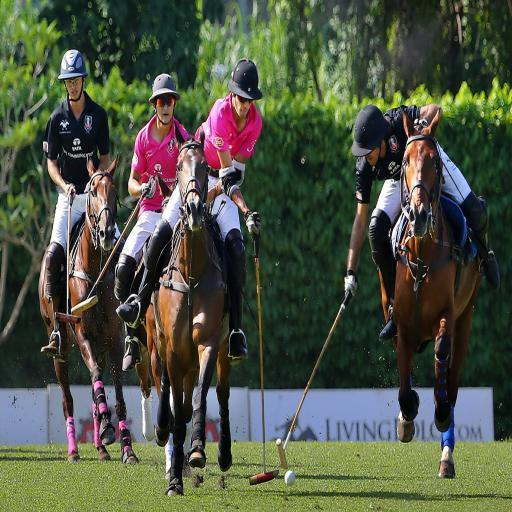horse: (377, 104, 484, 478), (134, 118, 234, 496), (36, 152, 140, 462)
